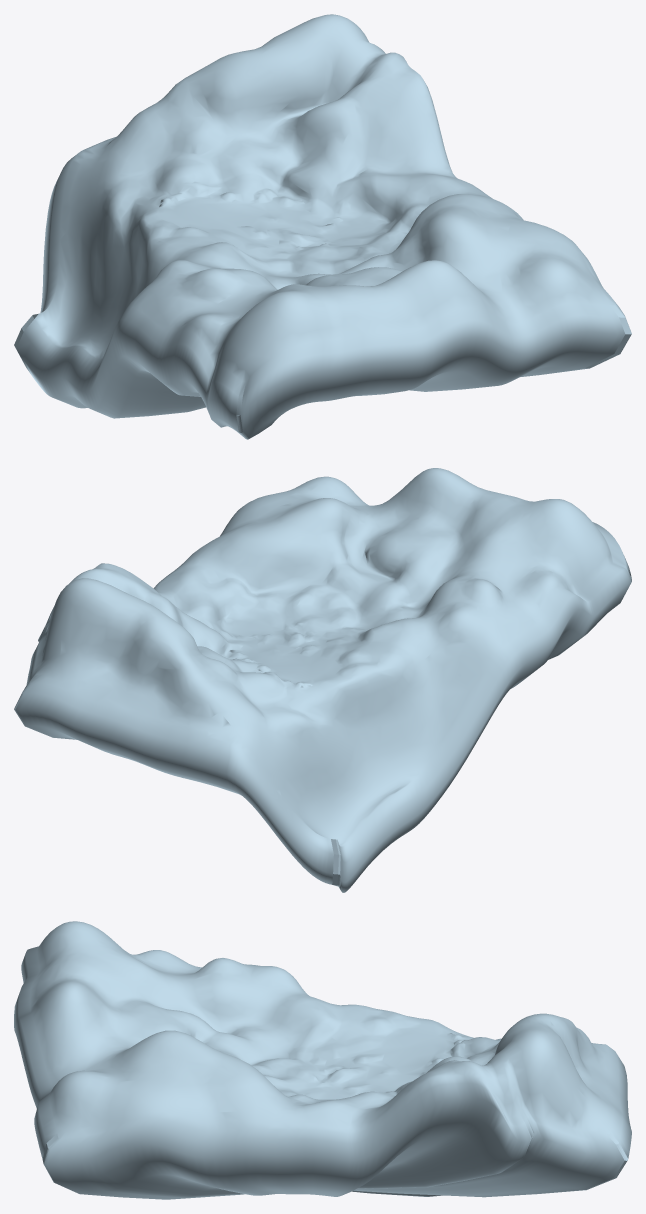
The model's file is island.glb.
The picture shows the model from 3 angles, top to bottom: view 1: azimuth 30°, elevation 25°; view 2: azimuth 150°, elevation 25°; view 3: azimuth 270°, elevation 25°; orthographic projection. The views are drawn at different scales.
Parts seen in each view (by area): view 1: Plane.001; view 2: Plane.001; view 3: Plane.001.
Boxes of the visible parts, x1,y1,x2,y2 form: Plane.001: (14,14,631,439); Plane.001: (14,468,631,892); Plane.001: (14,921,631,1199).
Bounding box in the file's own units: 260 × 177 × 356.
